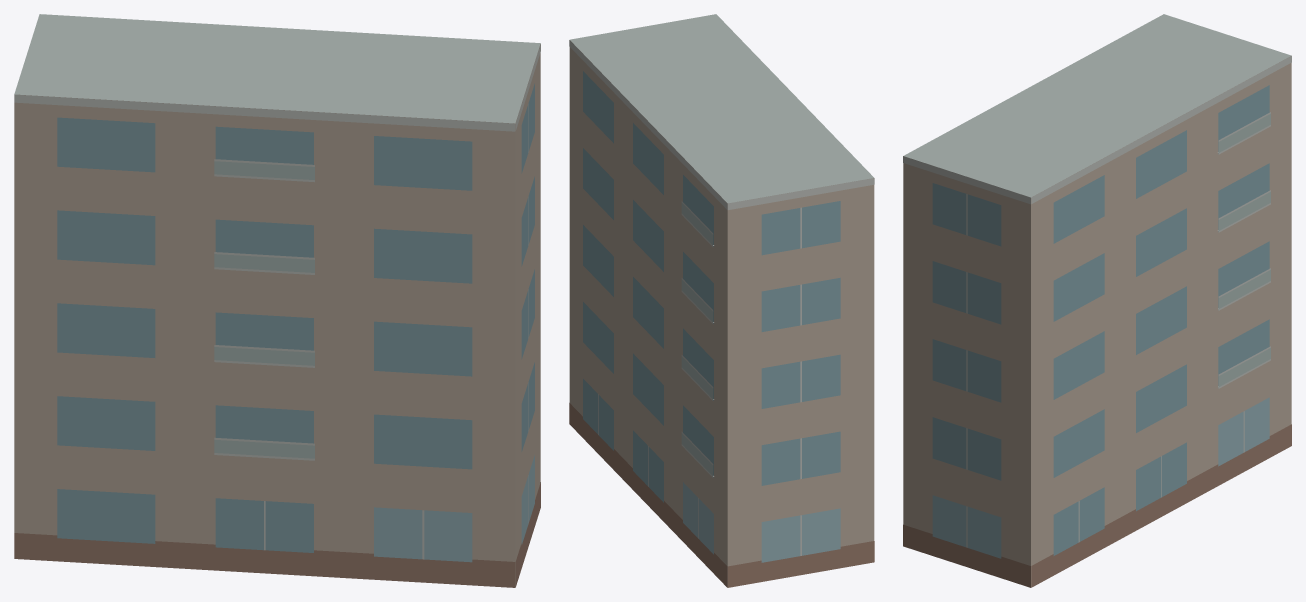
The model's file is survey-upis-32641705.glb.
The picture shows the model from 3 angles, left to right: view 1: azimuth 30°, elevation 25°; view 2: azimuth 150°, elevation 25°; view 3: azimuth 270°, elevation 25°; orthographic projection. The views are drawn at different scales.
Visible parts, largest first — view 1: survey-upis-32641705.tmp; view 2: survey-upis-32641705.tmp; view 3: survey-upis-32641705.tmp.
Boxes of the visible parts, x1,y1,x2,y2 form: survey-upis-32641705.tmp: (14, 14, 540, 587); survey-upis-32641705.tmp: (569, 14, 874, 587); survey-upis-32641705.tmp: (903, 14, 1291, 587).
Bounding box in the file's own units: 13.93 × 13.8 × 12.46.
